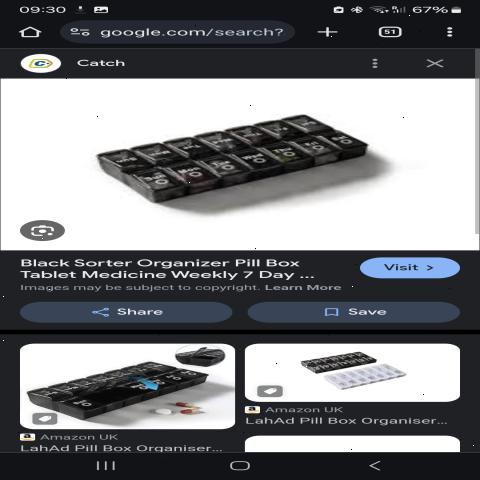PillBox: (78, 105, 428, 205)
